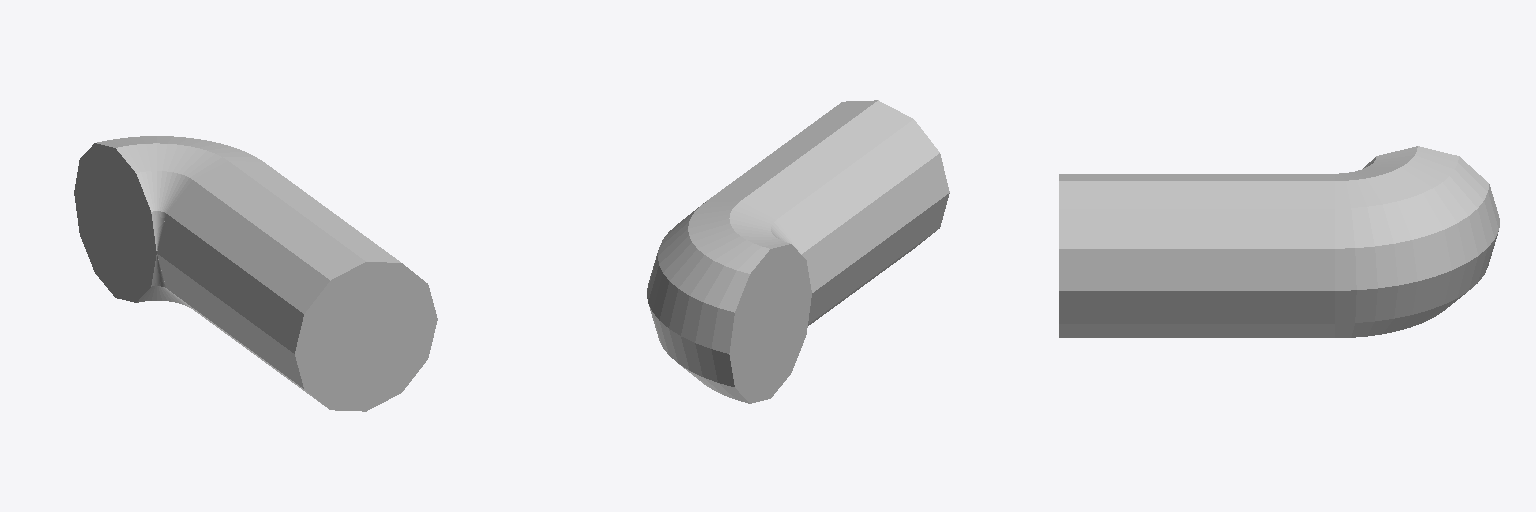
Rendered from arm_link3.obj.
3 renders of one model, left to right at view 1: azimuth 30°, elevation 25°; view 2: azimuth 150°, elevation 25°; view 3: azimuth 270°, elevation 25°, orthographic.
Visible parts, largest first — view 1: arm_link3_Cylinder.072; view 2: arm_link3_Cylinder.072; view 3: arm_link3_Cylinder.072.
Part boxes in pixels (left/top/right/bottom): arm_link3_Cylinder.072: left=74, top=136, right=437, bottom=411; arm_link3_Cylinder.072: left=647, top=100, right=949, bottom=403; arm_link3_Cylinder.072: left=1059, top=146, right=1499, bottom=337.
Size of the model in its own units: 0.06 by 0.06 by 0.16.